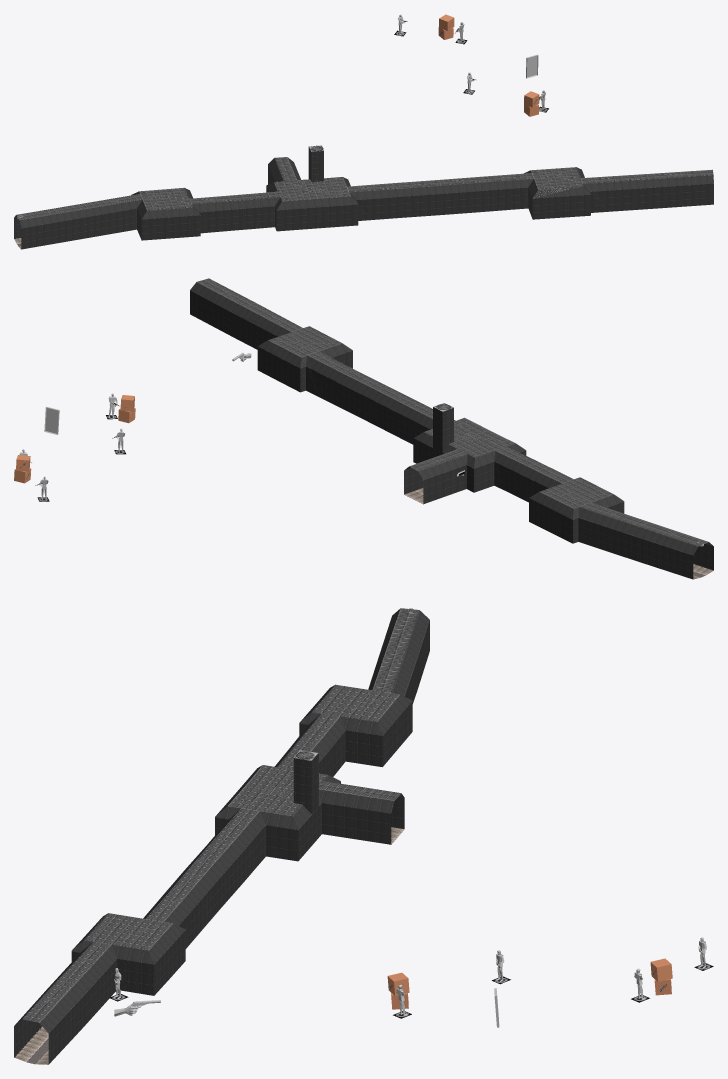
The model's file is dam15.obj.
3 renders of one model, top to bottom at view 1: azimuth 30°, elevation 25°; view 2: azimuth 150°, elevation 25°; view 3: azimuth 270°, elevation 25°, orthographic. The views are drawn at different scales.
Visible parts, largest first — view 1: 174_61410439_c.bmp, 062_61410439_c.bmp, 283_61410439_c.bmp, 277_61410439_c.bmp, 068_61410439_c.bmp, 178_1BE3C87_c.bmp, 066_1BE3C87_c.bmp, 281_1BE3C87_c.bmp, 286_1BE3C87_c.bmp, 071_1BE3C87_c.bmp, 278_61410439_c.bmp, 063_61410439_c.bmp; view 2: 174_61410439_c.bmp, 062_61410439_c.bmp, 283_61410439_c.bmp, 178_1BE3C87_c.bmp, 277_61410439_c.bmp, 068_61410439_c.bmp, 066_1BE3C87_c.bmp, 281_1BE3C87_c.bmp, 286_1BE3C87_c.bmp, 071_1BE3C87_c.bmp; view 3: 174_61410439_c.bmp, 062_61410439_c.bmp, 178_1BE3C87_c.bmp, 277_61410439_c.bmp, 066_1BE3C87_c.bmp, 281_1BE3C87_c.bmp, 068_61410439_c.bmp, 283_61410439_c.bmp, 286_1BE3C87_c.bmp, 071_1BE3C87_c.bmp.
Part boxes in pixels (left/top/right/bottom): 174_61410439_c.bmp: left=237, top=147, right=442, bottom=231; 062_61410439_c.bmp: left=524, top=167, right=713, bottom=219; 283_61410439_c.bmp: left=14, top=199, right=141, bottom=249; 277_61410439_c.bmp: left=131, top=188, right=238, bottom=240; 068_61410439_c.bmp: left=441, top=178, right=533, bottom=214; 178_1BE3C87_c.bmp: left=235, top=157, right=440, bottom=201; 066_1BE3C87_c.bmp: left=531, top=167, right=713, bottom=189; 281_1BE3C87_c.bmp: left=139, top=187, right=236, bottom=210; 286_1BE3C87_c.bmp: left=16, top=194, right=142, bottom=219; 071_1BE3C87_c.bmp: left=439, top=173, right=533, bottom=185; 278_61410439_c.bmp: left=142, top=207, right=200, bottom=219; 063_61410439_c.bmp: left=533, top=186, right=590, bottom=198; 174_61410439_c.bmp: left=370, top=390, right=527, bottom=504; 062_61410439_c.bmp: left=190, top=282, right=352, bottom=392; 283_61410439_c.bmp: left=578, top=507, right=713, bottom=579; 178_1BE3C87_c.bmp: left=376, top=386, right=539, bottom=471; 277_61410439_c.bmp: left=522, top=467, right=624, bottom=543; 068_61410439_c.bmp: left=306, top=355, right=375, bottom=422; 066_1BE3C87_c.bmp: left=197, top=278, right=341, bottom=357; 281_1BE3C87_c.bmp: left=528, top=462, right=613, bottom=508; 286_1BE3C87_c.bmp: left=579, top=502, right=708, bottom=546; 071_1BE3C87_c.bmp: left=307, top=351, right=387, bottom=389; 174_61410439_c.bmp: left=185, top=741, right=404, bottom=907; 062_61410439_c.bmp: left=14, top=923, right=185, bottom=1064; 178_1BE3C87_c.bmp: left=194, top=741, right=401, bottom=866; 277_61410439_c.bmp: left=290, top=695, right=412, bottom=776; 066_1BE3C87_c.bmp: left=22, top=913, right=172, bottom=1022; 281_1BE3C87_c.bmp: left=298, top=684, right=399, bottom=743; 068_61410439_c.bmp: left=143, top=864, right=221, bottom=948; 283_61410439_c.bmp: left=368, top=608, right=429, bottom=703; 286_1BE3C87_c.bmp: left=372, top=608, right=419, bottom=693; 071_1BE3C87_c.bmp: left=146, top=863, right=211, bottom=921.
Bounding box in the file's own units: 1.07 × 0.1094 × 0.7607.
